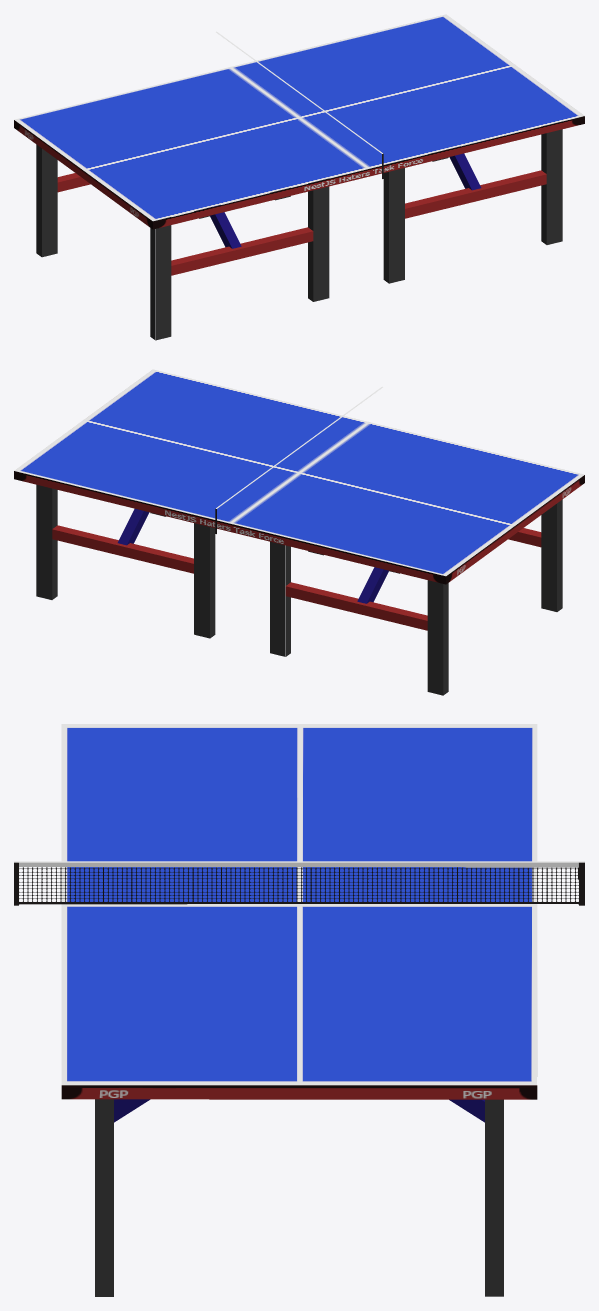
File: pingPongTable.gltf
The picture shows the model from 3 angles, top to bottom: view 1: azimuth 30°, elevation 25°; view 2: azimuth 150°, elevation 25°; view 3: azimuth 270°, elevation 25°; orthographic projection. The views are drawn at different scales.
Parts seen in each view (by area): view 1: Cube.008; view 2: Cube.008; view 3: Cube.008.
Part boxes in pixels (x1,y1,x2,y2): Cube.008: (14,14,584,340); Cube.008: (14,369,584,695); Cube.008: (14,724,584,1296).
Size of the model in its own units: 2.74 by 0.9363 by 1.83.
1 material, 1 textured.
